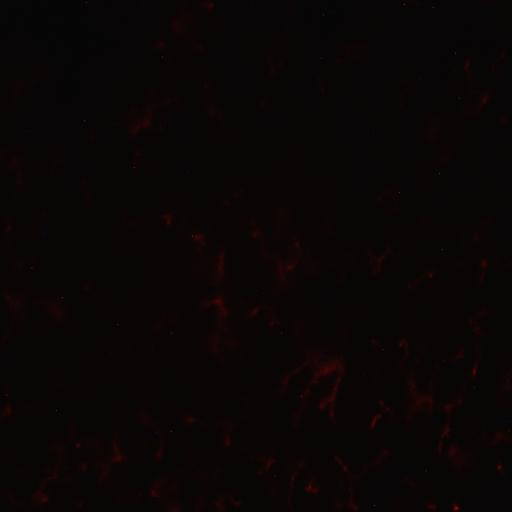microglia: (0, 273, 79, 351), (157, 203, 232, 285), (278, 346, 350, 429), (245, 209, 321, 286), (119, 82, 192, 145), (396, 340, 438, 427), (334, 452, 392, 512), (24, 437, 68, 512), (415, 111, 459, 175), (200, 289, 238, 361), (155, 10, 205, 60), (185, 410, 237, 458), (438, 394, 467, 473), (139, 403, 177, 462), (141, 467, 188, 512), (197, 462, 239, 512), (286, 455, 323, 511), (246, 288, 287, 334), (95, 430, 130, 480), (457, 309, 492, 351), (456, 346, 484, 393), (406, 264, 440, 301), (249, 446, 278, 485), (368, 390, 392, 435), (364, 247, 394, 281), (478, 426, 511, 448), (470, 83, 493, 111), (473, 253, 493, 280)
